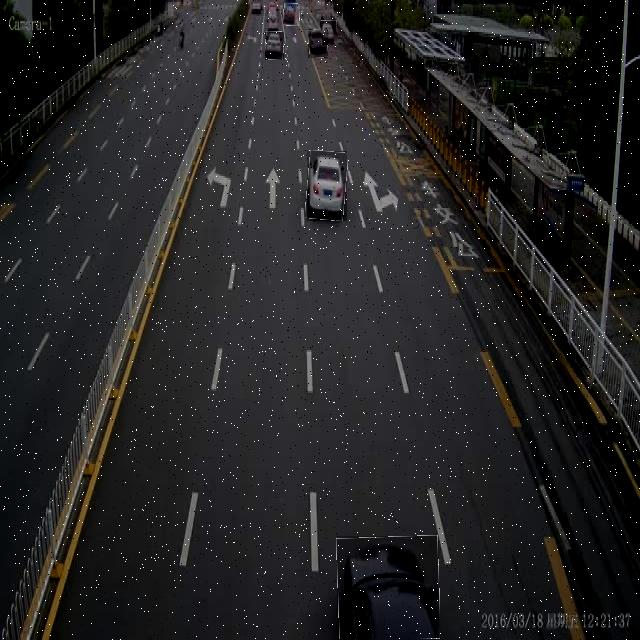Car: (337, 536, 439, 640), (307, 151, 347, 221), (308, 29, 328, 58), (265, 32, 284, 60), (321, 20, 337, 45), (284, 4, 300, 26)
